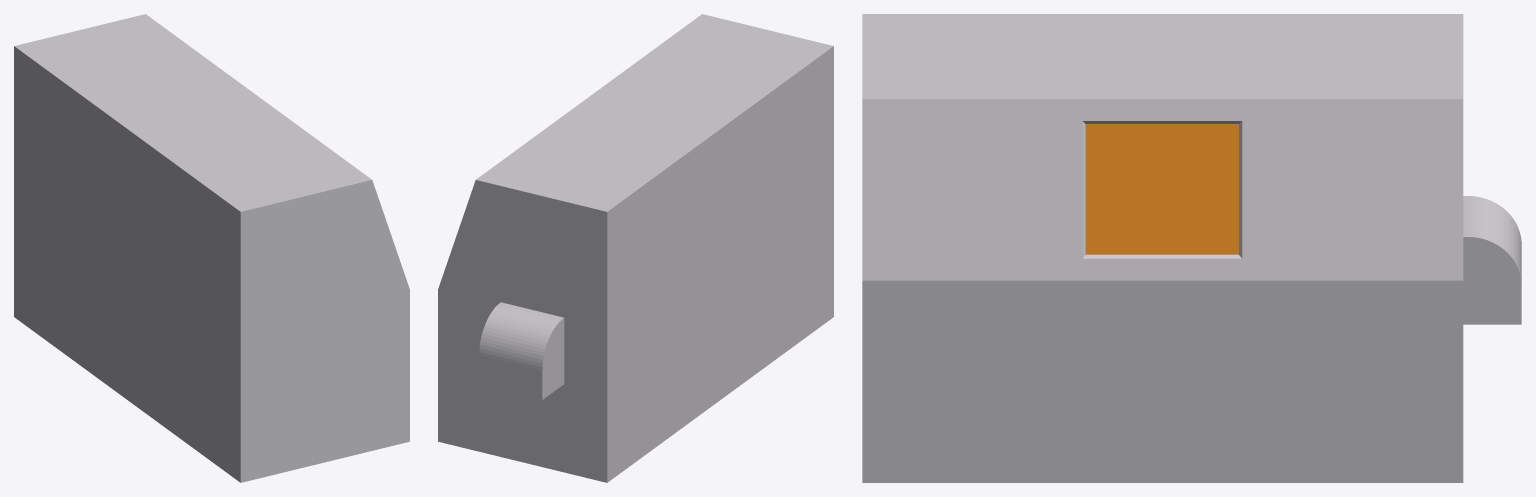
Rendered from shebei2.glb.
The picture shows the model from 3 angles, left to right: view 1: azimuth 30°, elevation 25°; view 2: azimuth 150°, elevation 25°; view 3: azimuth 270°, elevation 25°; orthographic projection. The views are drawn at different scales.
Parts seen in each view (by area): view 1: shebi2_2; view 2: shebi2_2, shebi2_1; view 3: shebi2_2, shebi2_1.
Part boxes in pixels (x1=…): shebi2_2: x1=14, y1=14, x2=409, y2=482; shebi2_2: x1=438, y1=14, x2=833, y2=482; shebi2_1: x1=479, y1=302, x2=564, y2=399; shebi2_2: x1=862, y1=14, x2=1463, y2=482; shebi2_1: x1=1463, y1=196, x2=1521, y2=324.
Bounding box in the file's own units: 5.61 × 8.59 × 14.27.
